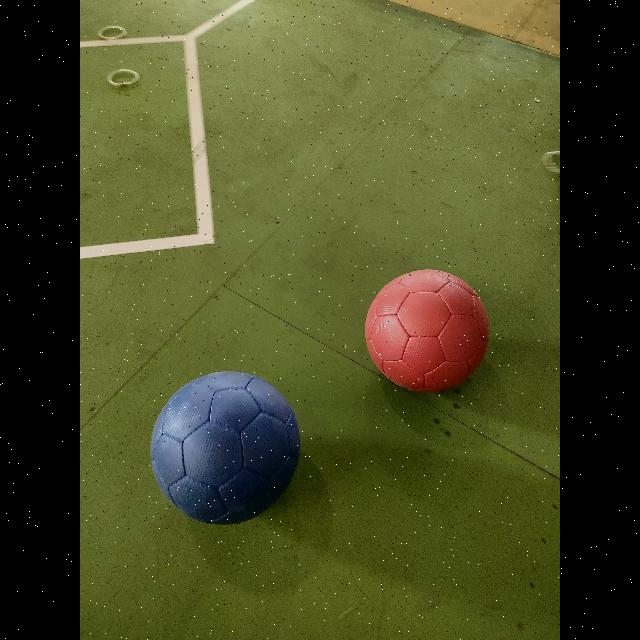B: (151, 371, 299, 525)
R: (365, 270, 489, 393)
